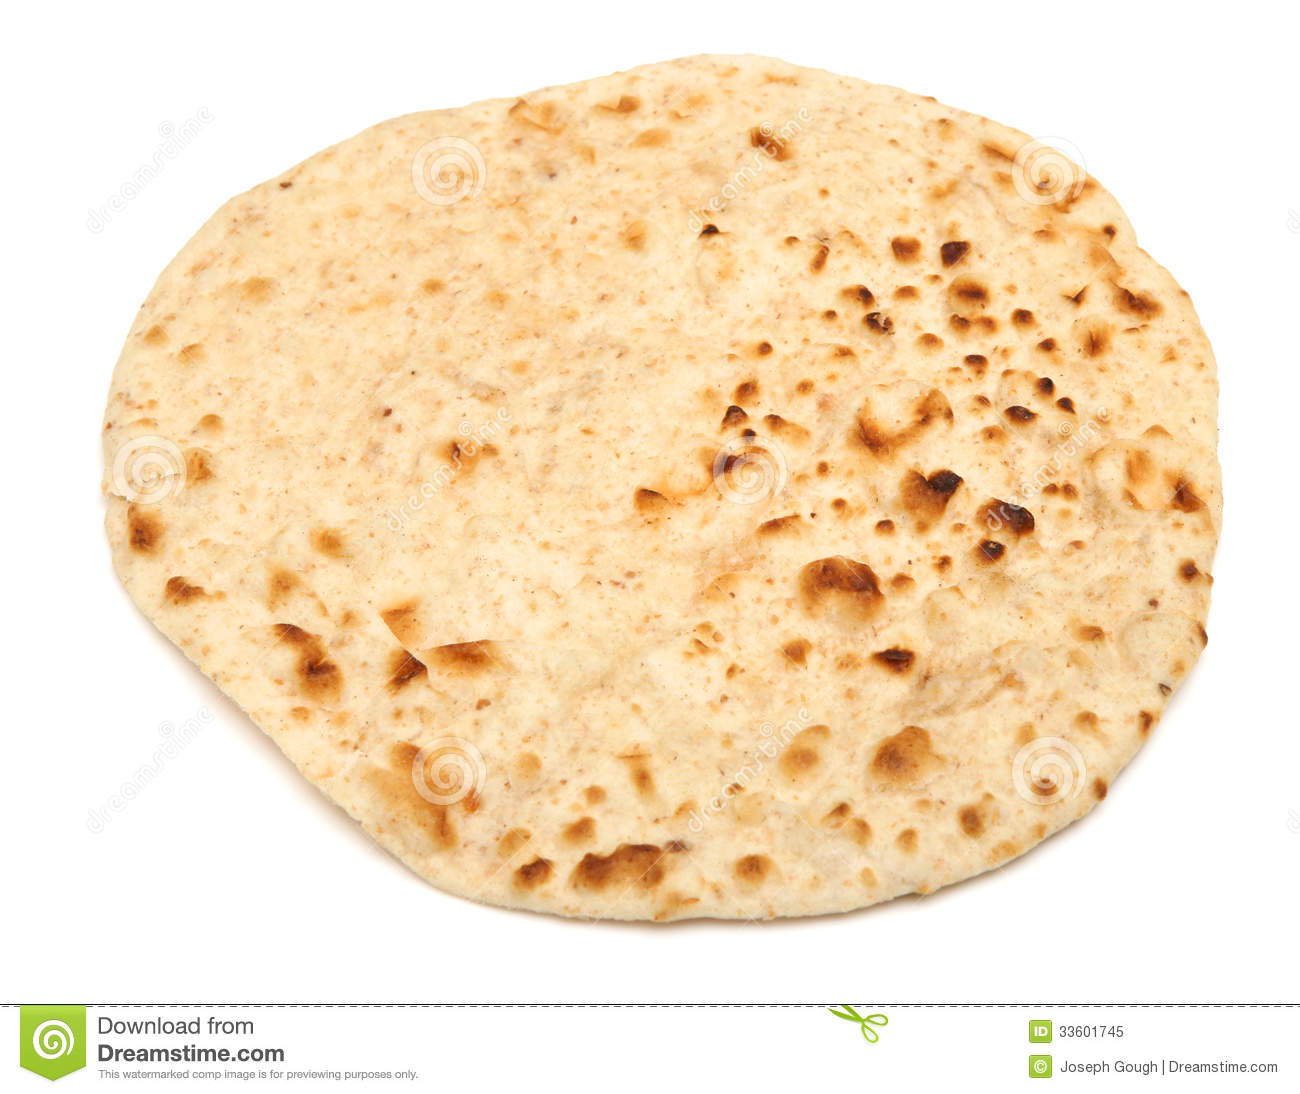roti: (222, 116, 1150, 843)
